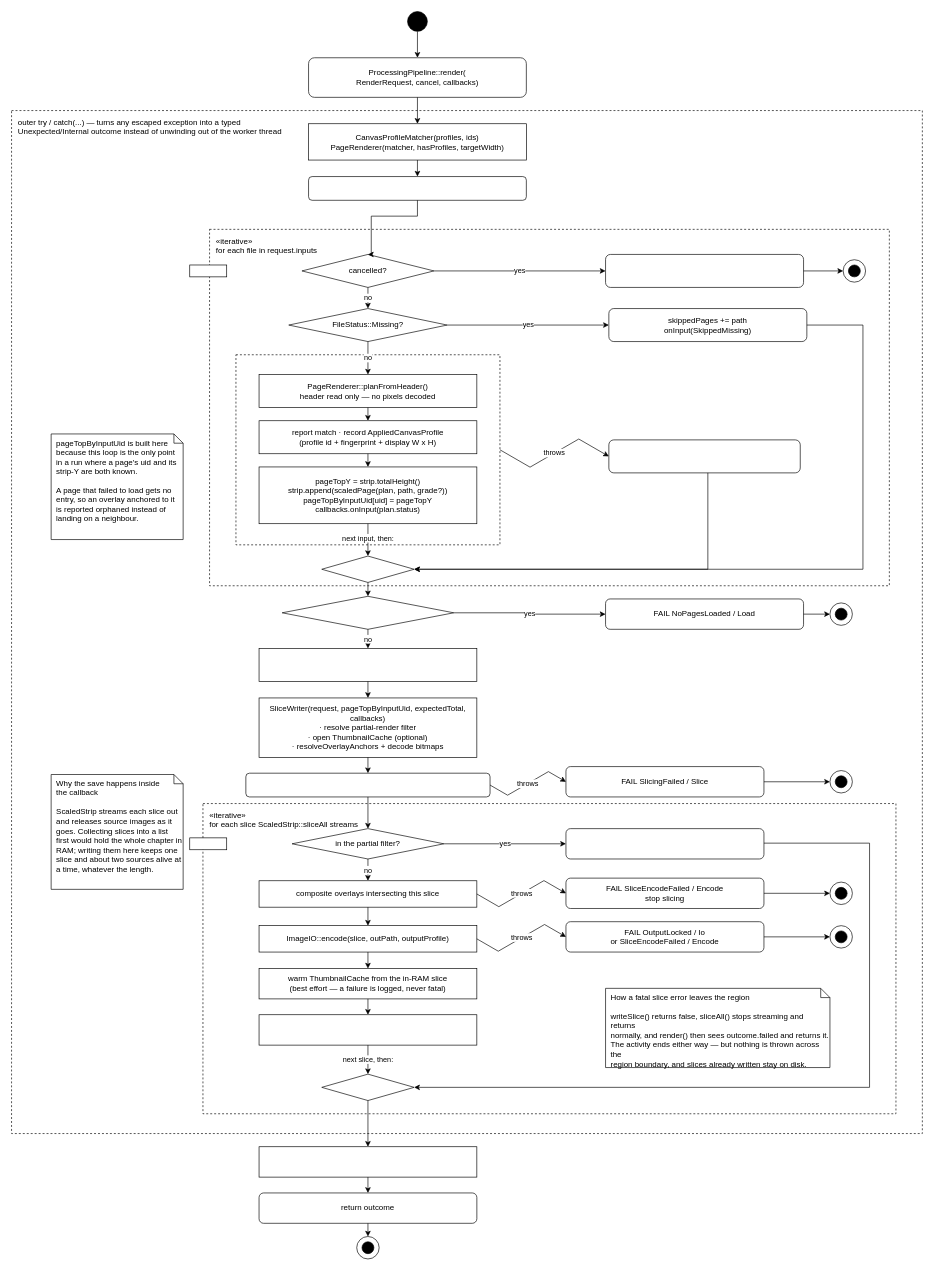
This 934x1271 diagram has some shape labels left out. Here are the shapes that lost their labels. From the top down, the box of each, then its label:
(308, 176, 526, 200): PHASE 1 — StripBuilder::appendAllPages()
(189, 264, 227, 277): inputs
(605, 254, 804, 287): return outcome{cancelled} partial output stays on disk
(235, 354, 500, 545): try
(608, 439, 800, 473): onInput(SkippedError, InputLoadFailed) NON-FATAL — the run continues
(281, 596, 454, 629): strip.totalHeight() == 0 ?
(258, 648, 477, 681): expectedSliceCount(stripHeight, outputProfile) callbacks.onSlicingStarted
(245, 773, 490, 797): PHASE 2 — strip.sliceAll(...) streams one slice at a time
(189, 837, 227, 850): slices
(565, 828, 764, 859): onSliceSkipped (clean slice, not re-encoded)
(258, 1014, 477, 1045): sha256 + ProcessingSliceRecord onProgress / onSliceSaved
(258, 1146, 477, 1177): cancel.isCancelled() -> outcome.cancelled = true
